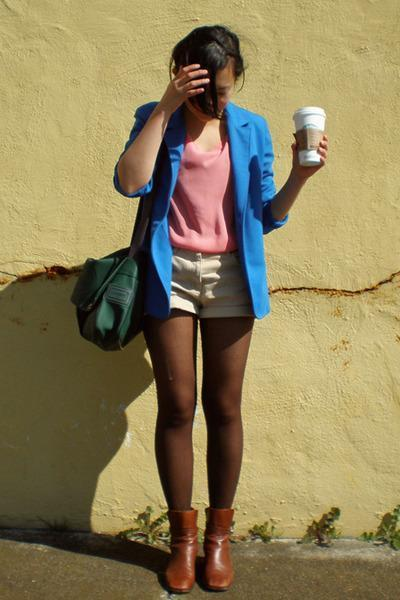bag: (71, 252, 152, 350)
jacket: (116, 103, 286, 318)
shirt: (167, 139, 242, 261)
shoe: (163, 500, 245, 599)
shorts: (169, 242, 252, 317)
